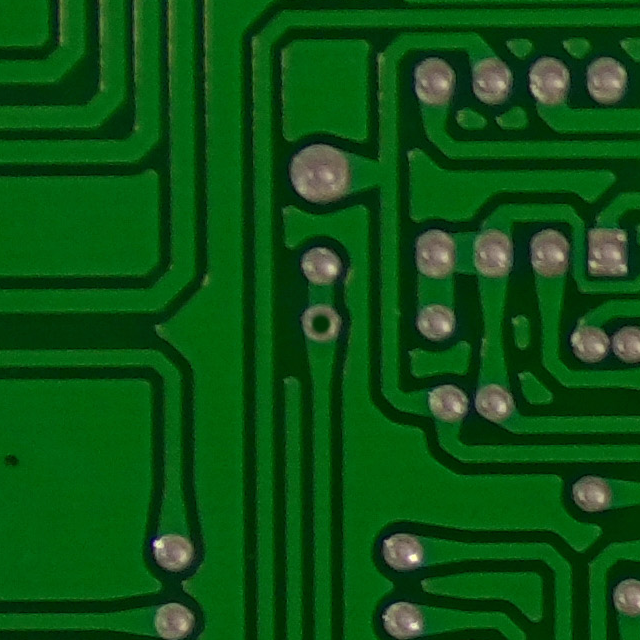missing_hole: (289, 294, 352, 346)
